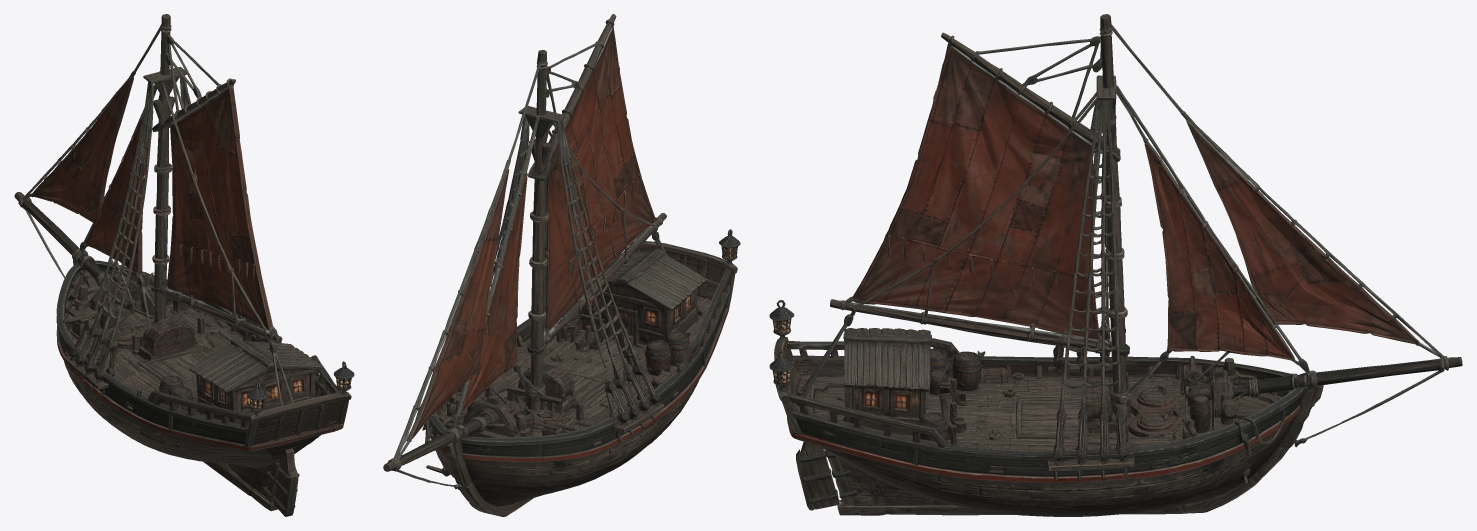
Rendered from sloop.glb.
3 renders of one model, left to right at view 1: azimuth 30°, elevation 25°; view 2: azimuth 150°, elevation 25°; view 3: azimuth 270°, elevation 25°, orthographic. The views are drawn at different scales.
Parts seen in each view (by area): view 1: Mesh_0; view 2: Mesh_0; view 3: Mesh_0.
Part boxes in pixels (box(x1,y1,x2,y2)): Mesh_0: box(14, 14, 354, 516); Mesh_0: box(383, 14, 740, 516); Mesh_0: box(769, 14, 1462, 516).
Bounding box in the file's own units: 5.16 × 11.06 × 14.
1 material, 1 textured.
